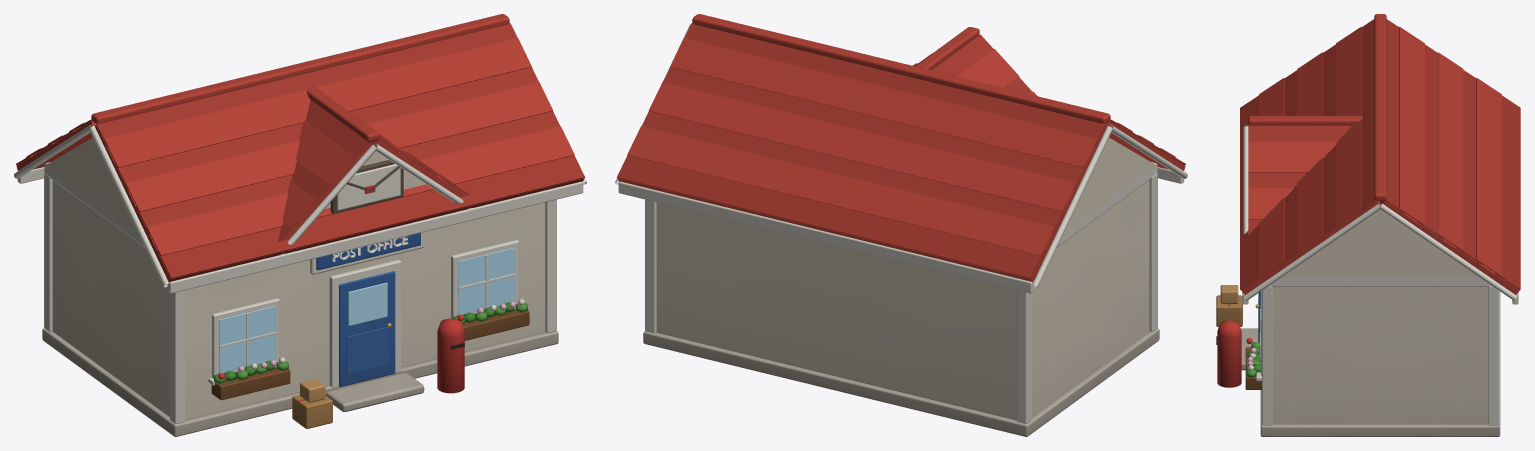
File: bld_postoffice.glb
3 renders of one model, left to right at view 1: azimuth 30°, elevation 25°; view 2: azimuth 150°, elevation 25°; view 3: azimuth 270°, elevation 25°, orthographic. The views are drawn at different scales.
Parts seen in each view (by area): view 1: bld_postoffice_main, bld_postoffice_glass; view 2: bld_postoffice_main; view 3: bld_postoffice_main.
Boxes of the visible parts, box(x1,y1,x2,y2) form: bld_postoffice_main: box(14, 14, 586, 436); bld_postoffice_glass: box(219, 247, 514, 373); bld_postoffice_main: box(615, 14, 1187, 436); bld_postoffice_main: box(1216, 14, 1520, 436).
Bounding box in the file's own units: 4.95 × 3.1 × 3.43.
